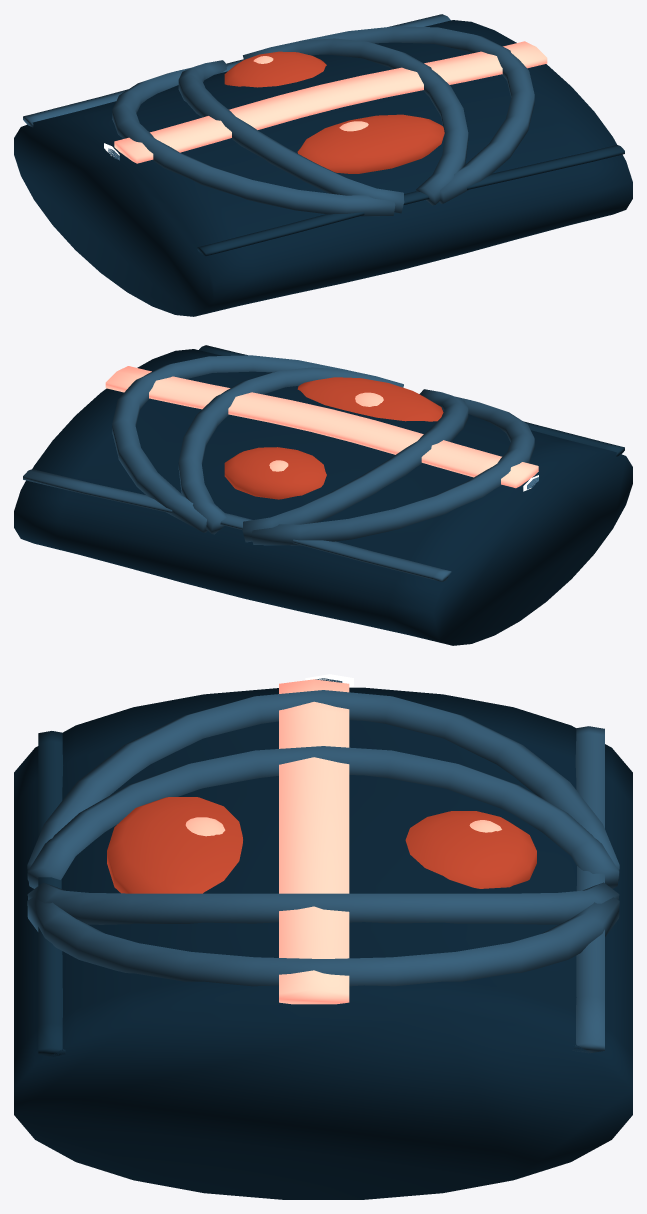
Rendered from newshs-115-f2.glb.
3 views of the same model, one above another, from view 1: azimuth 30°, elevation 25°; view 2: azimuth 150°, elevation 25°; view 3: azimuth 270°, elevation 25° (orthographic). The views are drawn at different scales.
Parts seen in each view (by area): view 1: newshs-115-f2; view 2: newshs-115-f2, newshs-115-f2-shine-121; view 3: newshs-115-f2, newshs-115-f2-shine-121.
Part boxes in pixels (bbox=[...]): newshs-115-f2: bbox=[14, 14, 632, 316]; newshs-115-f2: bbox=[14, 345, 632, 645]; newshs-115-f2-shine-121: bbox=[269, 392, 383, 471]; newshs-115-f2: bbox=[14, 674, 632, 1199]; newshs-115-f2-shine-121: bbox=[185, 817, 501, 836].
Size of the model in its own units: 2 by 0.6811 by 1.65.
